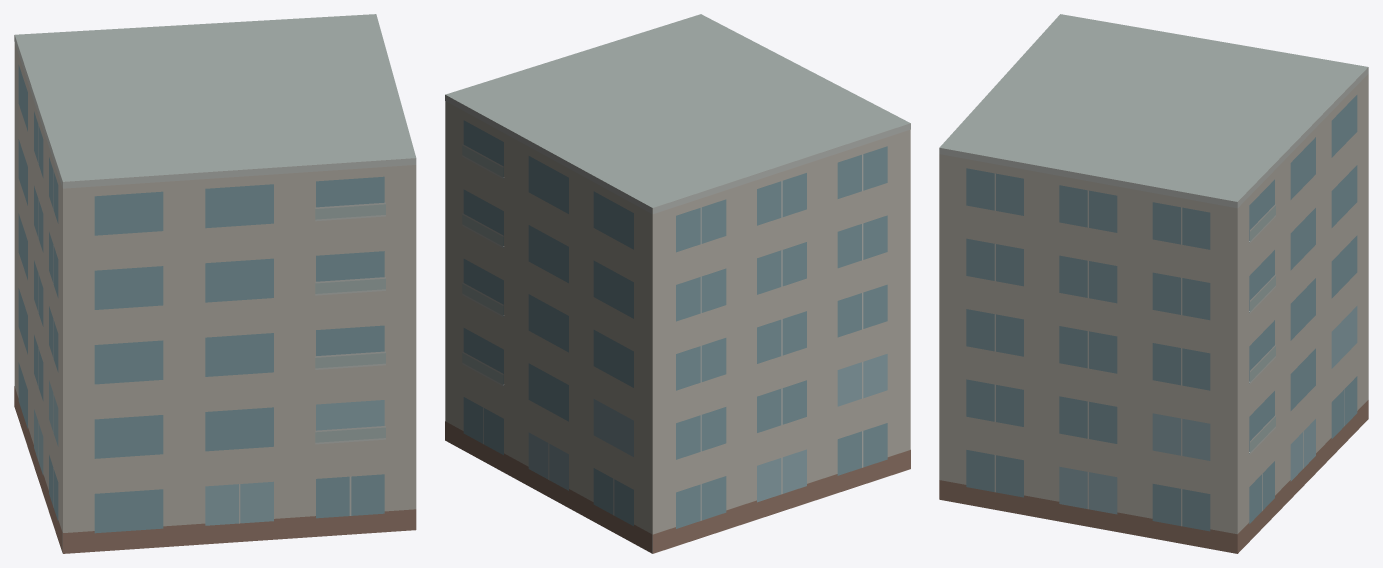
The model's file is survey-upis-32871312.glb.
The picture shows the model from 3 angles, left to right: view 1: azimuth 30°, elevation 25°; view 2: azimuth 150°, elevation 25°; view 3: azimuth 270°, elevation 25°; orthographic projection. The views are drawn at different scales.
Parts seen in each view (by area): view 1: survey-upis-32871312.tmp; view 2: survey-upis-32871312.tmp; view 3: survey-upis-32871312.tmp.
Part boxes in pixels (<box>): survey-upis-32871312.tmp: <box>14,14,416,553</box>; survey-upis-32871312.tmp: <box>445,14,910,553</box>; survey-upis-32871312.tmp: <box>939,14,1368,553</box>.
Size of the model in its own units: 15.36 by 13.4 by 14.82.
